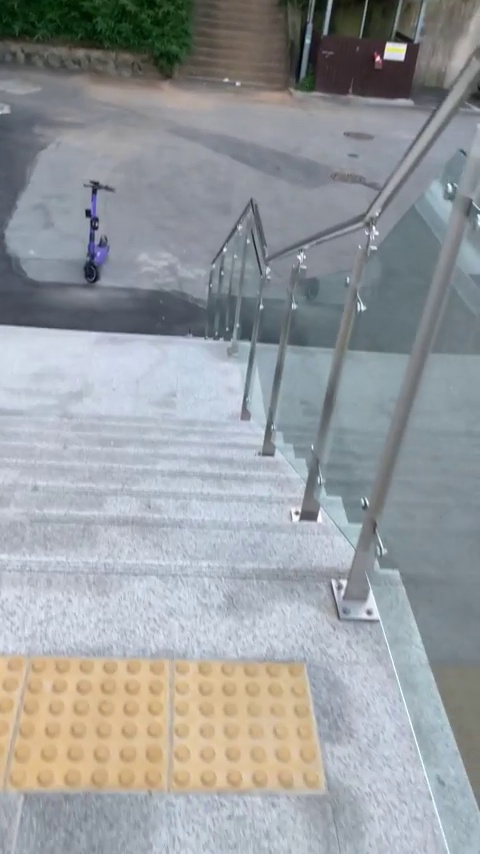beam: (70, 171, 130, 286)
